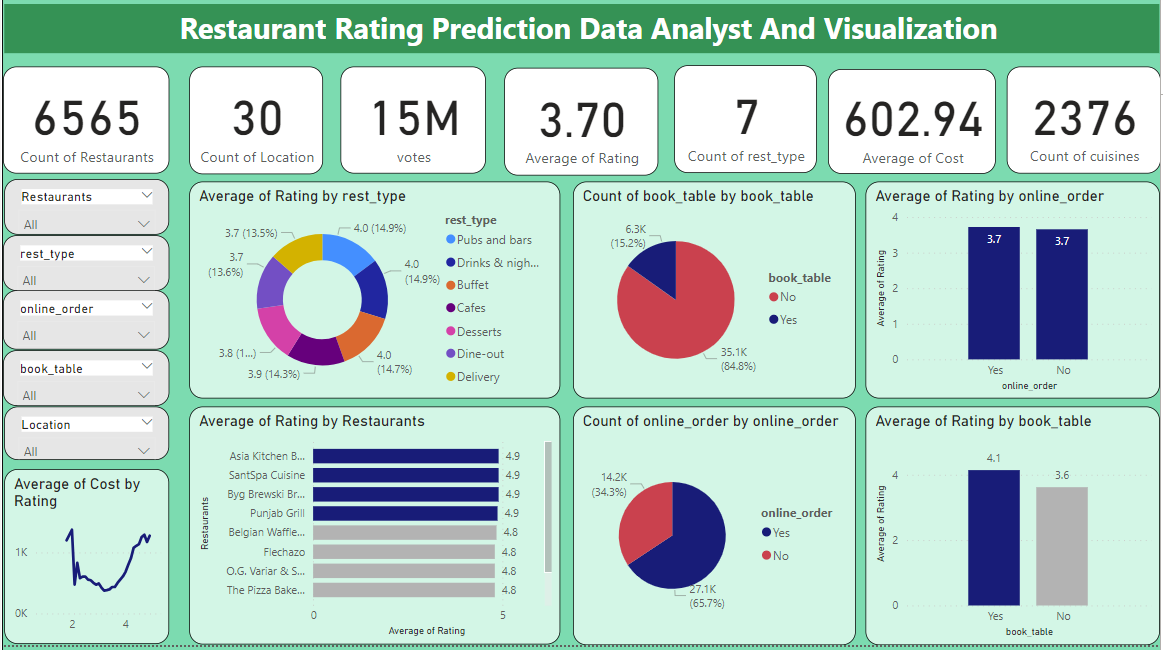

This screenshot's page, from the dashboard's own definition file:
{"tool":"powerbi","page":{"name":"Page 1","canvas":[1280,720],"ordinal":0},"visuals":[{"type":"card","fields":{"Values":["Count(Sheet1.Restaurants)"]},"box":[0,80.2,183.7,118.6],"z":0},{"type":"card","fields":{"Values":["Avg(Sheet1.Cost)"]},"box":[912.3,82.6,186,116],"z":1000},{"type":"card","fields":{"Values":["Avg(Sheet1.Rating)"]},"box":[554.8,81,170.3,119.5],"z":2000},{"type":"card","fields":{"Values":["Count(Sheet1.City)"]},"box":[206.2,79.6,148.3,119.4],"z":3000},{"type":"card","fields":{"Values":["Count(Sheet1.rest_type)"]},"box":[742.3,79.5,157.4,119.2],"z":4000},{"type":"card","fields":{"Values":["Sum(Sheet1.votes)"]},"box":[373.9,80.8,160.4,118.2],"z":5000},{"type":"card","fields":{"Values":["Count(Sheet1.cuisines)"]},"box":[1109.7,79.7,170.3,118.1],"z":6000},{"type":"pieChart","fields":{"Category":["Sheet1.online_order"],"Y":["CountNonNull(Sheet1.online_order)"]},"box":[630.4,456,313.1,263.7],"z":7000},{"type":"pieChart","fields":{"Category":["Sheet1.book_table"],"Y":["CountNonNull(Sheet1.book_table)"]},"box":[630.4,207.4,313.1,240.3],"z":8000},{"type":"columnChart","fields":{"Y":["Avg(Sheet1.Rating)"],"Category":["Sheet1.book_table"]},"box":[954.5,456,325.5,263.7],"z":9000},{"type":"columnChart","fields":{"Category":["Sheet1.online_order"],"Y":["Avg(Sheet1.Rating)"]},"box":[954.5,207.4,325.5,240.3],"z":10000},{"type":"donutChart","fields":{"Category":["Sheet1.rest_type"],"Y":["Avg(Sheet1.Rating)"]},"box":[206.2,207.4,410.1,240],"z":11000},{"type":"barChart","fields":{"Category":["Sheet1.Restaurants"],"Y":["Avg(Sheet1.Rating)"]},"box":[206.2,455.9,410.1,262.9],"z":12000},{"type":"slicer","fields":{"Values":["Sheet1.book_table"]},"box":[0,394.2,184,61.8],"z":13000},{"type":"slicer","fields":{"Values":["Sheet1.online_order"]},"box":[0,328.2,184,65.9],"z":14000},{"type":"slicer","fields":{"Values":["Sheet1.Location"]},"box":[1.4,456,182.7,59.1],"z":15000},{"type":"slicer","fields":{"Values":["Sheet1.rest_type"]},"box":[0,266.4,184,61.8],"z":16000},{"type":"slicer","fields":{"Values":["Sheet1.Restaurants"]},"box":[1.4,204.6,182.7,61.8],"z":17000},{"type":"textbox","box":[1.2,10.5,1277.9,54.7],"z":19000},{"type":"lineChart","fields":{"Category":["Sheet1.Rating"],"Y":["Avg(Sheet1.Cost)"]},"box":[1.4,526,182.7,193.6],"z":21000}]}

Visuals, with their boxes in screenshot pixels (x1, y1, x2, y2), scaled from the page's 1280x720 canvas onto the 1163x650 screenshot:
card - Count(Sheet1.Restaurants): left=0, top=72, right=167, bottom=179
card - Avg(Sheet1.Cost): left=829, top=75, right=998, bottom=179
card - Avg(Sheet1.Rating): left=504, top=73, right=659, bottom=181
card - Count(Sheet1.City): left=187, top=72, right=322, bottom=180
card - Count(Sheet1.rest_type): left=674, top=72, right=817, bottom=179
card - Sum(Sheet1.votes): left=340, top=73, right=485, bottom=180
card - Count(Sheet1.cuisines): left=1008, top=72, right=1162, bottom=179
pieChart - Sheet1.online_order x CountNonNull(Sheet1.online_order): left=573, top=412, right=857, bottom=649
pieChart - Sheet1.book_table x CountNonNull(Sheet1.book_table): left=573, top=187, right=857, bottom=404
columnChart - Avg(Sheet1.Rating) x Sheet1.book_table: left=867, top=412, right=1162, bottom=649
columnChart - Sheet1.online_order x Avg(Sheet1.Rating): left=867, top=187, right=1162, bottom=404
donutChart - Sheet1.rest_type x Avg(Sheet1.Rating): left=187, top=187, right=560, bottom=404
barChart - Sheet1.Restaurants x Avg(Sheet1.Rating): left=187, top=412, right=560, bottom=649
slicer - Sheet1.book_table: left=0, top=356, right=167, bottom=412
slicer - Sheet1.online_order: left=0, top=296, right=167, bottom=356
slicer - Sheet1.Location: left=1, top=412, right=167, bottom=465
slicer - Sheet1.rest_type: left=0, top=240, right=167, bottom=296
slicer - Sheet1.Restaurants: left=1, top=185, right=167, bottom=240
textbox: left=1, top=9, right=1162, bottom=59
lineChart - Sheet1.Rating x Avg(Sheet1.Cost): left=1, top=475, right=167, bottom=649
